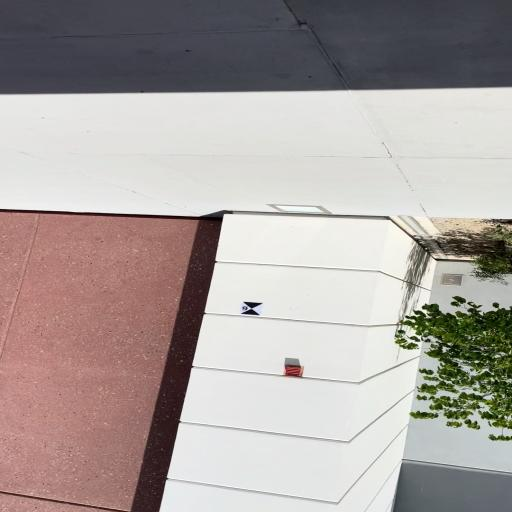target6: (240, 302, 263, 316)
